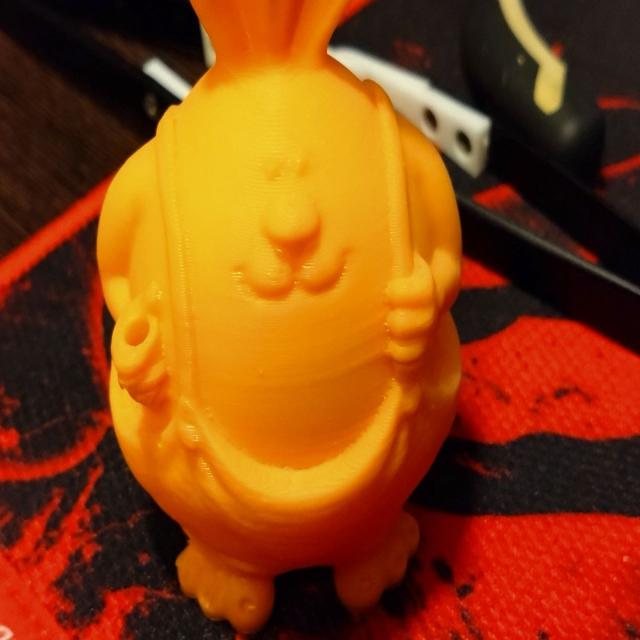Without deffect: (78, 0, 470, 638)
